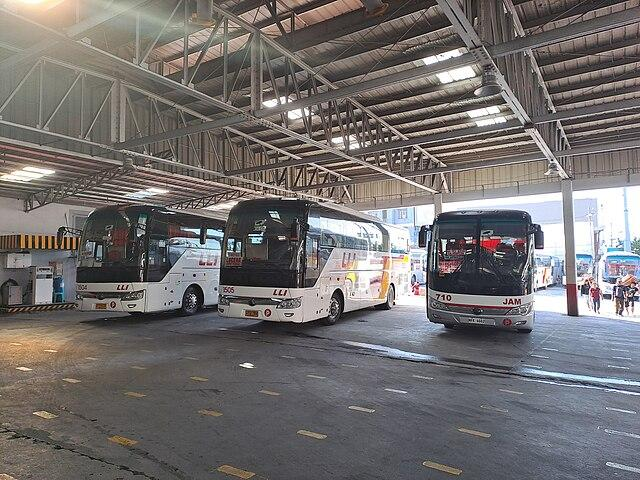bus: (215, 197, 411, 324), (71, 204, 231, 316), (419, 208, 546, 333), (596, 249, 640, 300)
